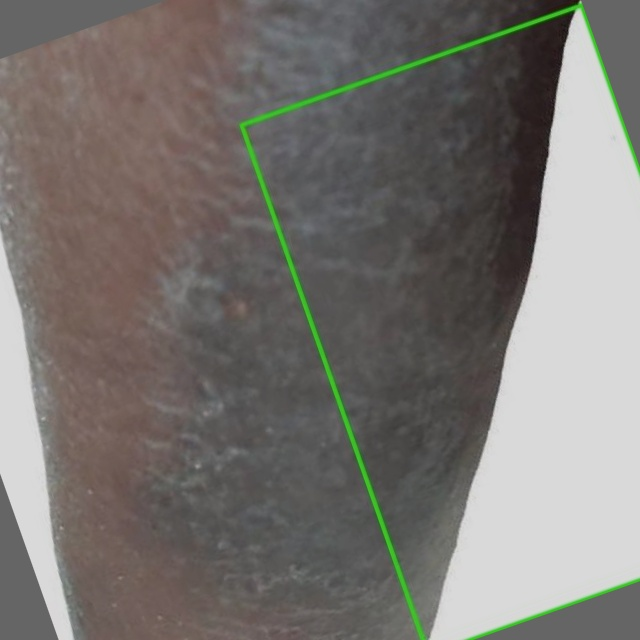Eczema: (241, 5, 639, 639)
